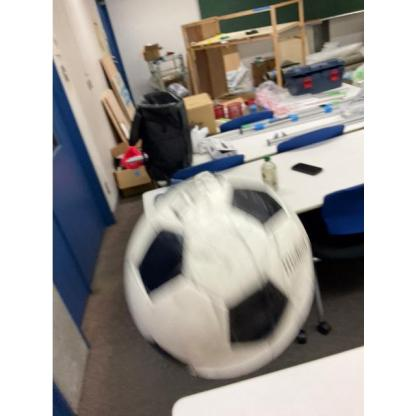ball: (122, 174, 314, 380)
